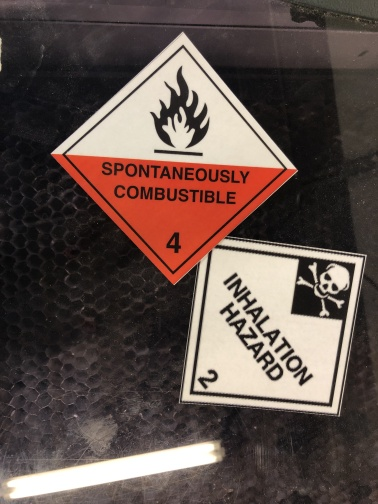InhalationHazard: (182, 236, 367, 418)
SpontaneouslyCombustible: (50, 31, 297, 286)
